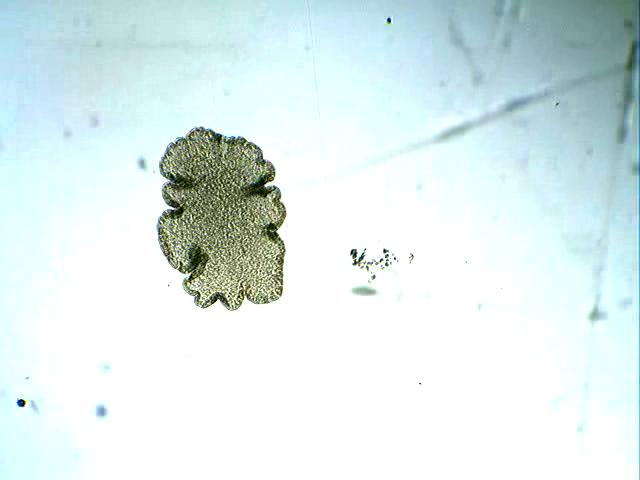Placozoan: (157, 126, 286, 311)
